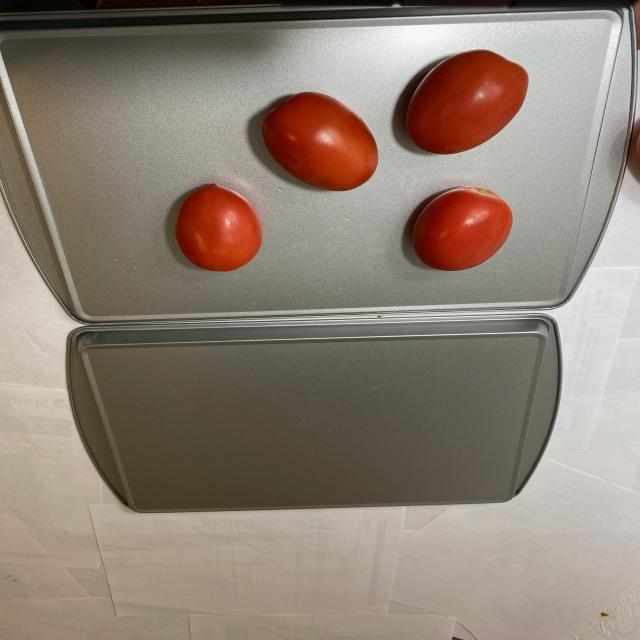tomato: (173, 49, 534, 274)
